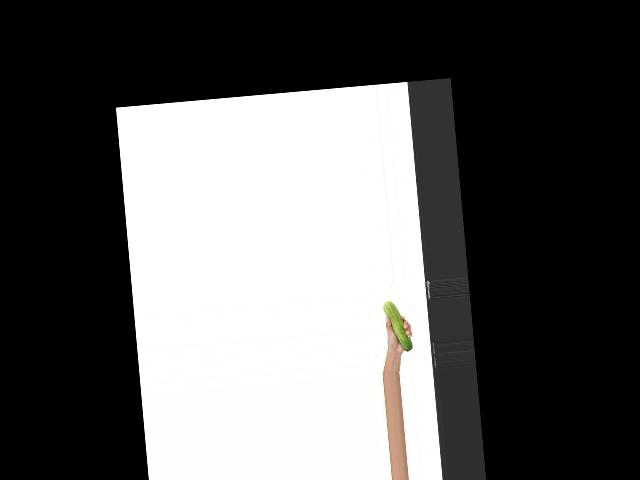cucumber: (382, 300, 413, 353)
